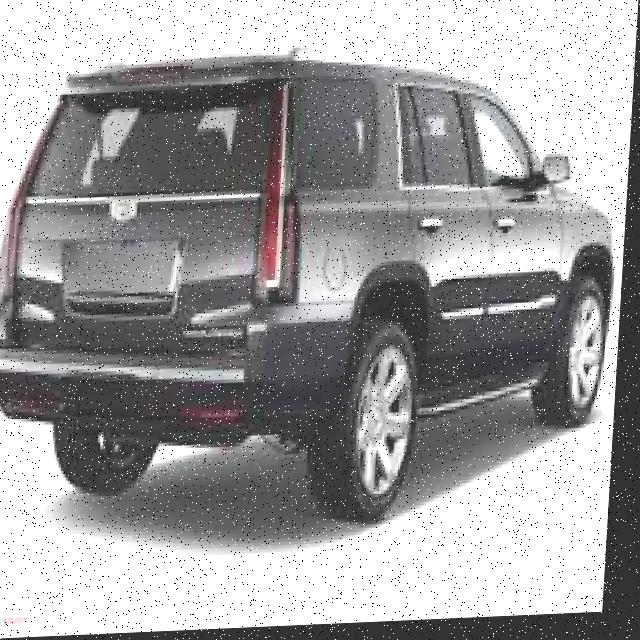car: (0, 69, 633, 519)
